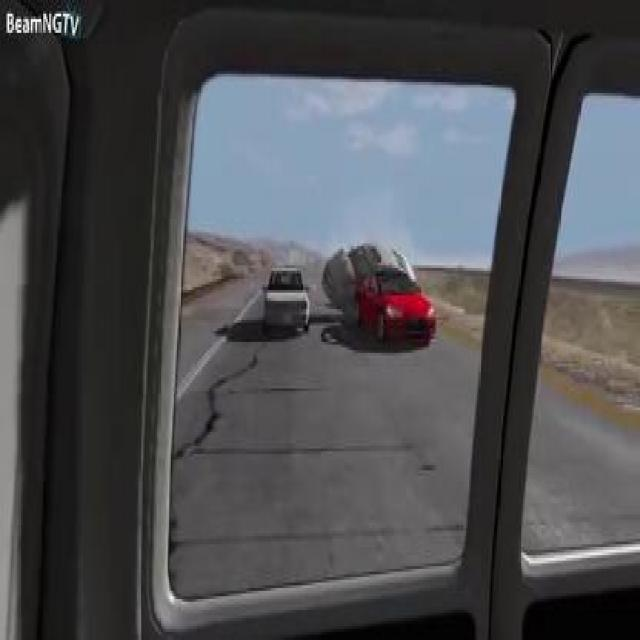accident: (321, 231, 436, 354)
